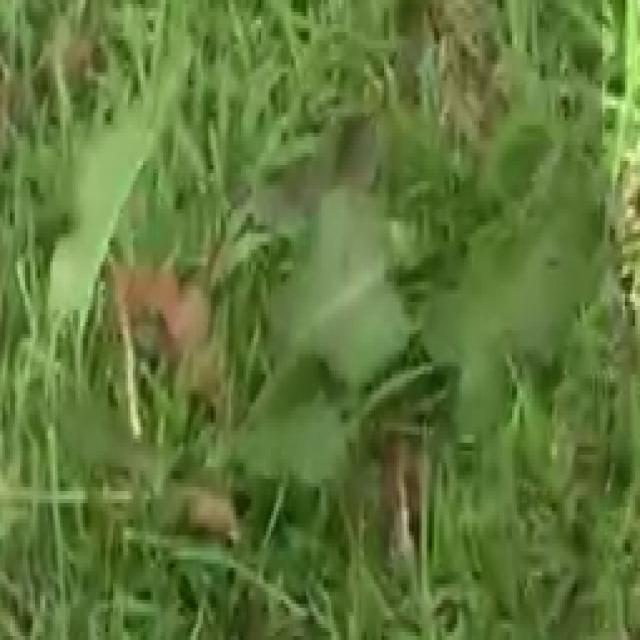organic waste: (53, 44, 607, 624)
